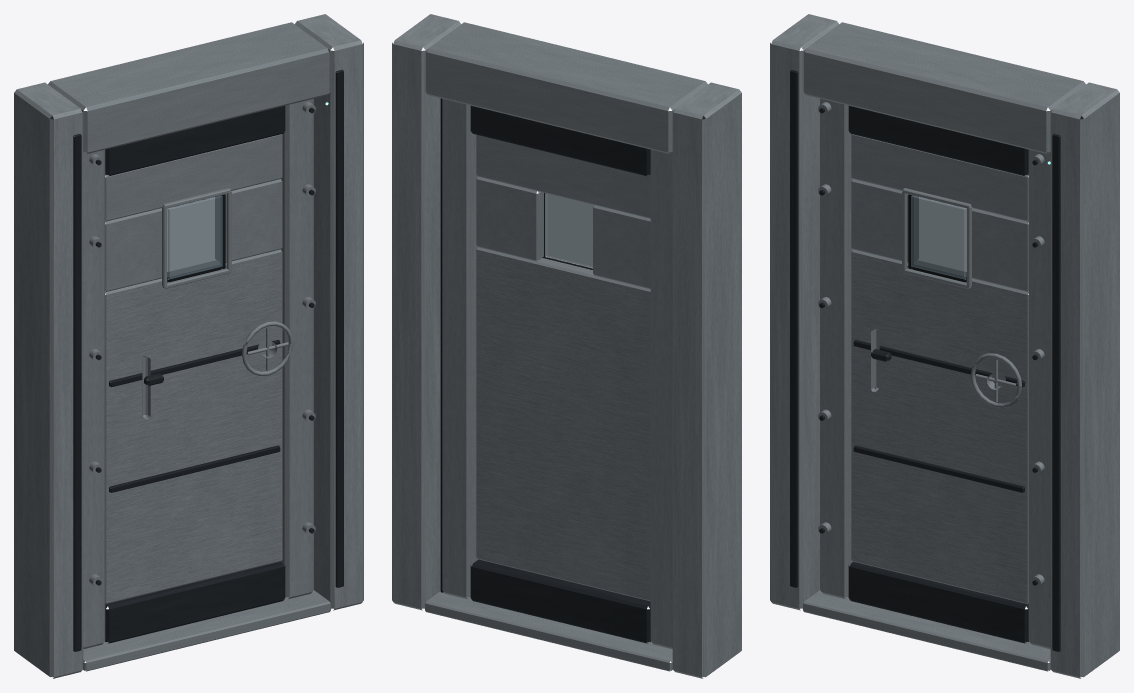
File: cyber_bunker_airlock.gltf
3 renders of one model, left to right at view 1: azimuth 30°, elevation 25°; view 2: azimuth 150°, elevation 25°; view 3: azimuth 330°, elevation 25°, orthographic.
Parts seen in each view (by area): view 1: bunker_door_leaf, bunker_door_load_bearing_frame, bunker_door_handwheel_and_latch, bunker_door_lockdogs; view 2: bunker_door_leaf, bunker_door_load_bearing_frame, bunker_door_compression_seal; view 3: bunker_door_leaf, bunker_door_load_bearing_frame, bunker_door_handwheel_and_latch, bunker_door_lockdogs.
Part boxes in pixels (left/top/right/bottom): bunker_door_leaf: left=83, top=98, right=313, bottom=648; bunker_door_load_bearing_frame: left=14, top=14, right=363, bottom=678; bunker_door_handwheel_and_latch: left=142, top=321, right=293, bottom=419; bunker_door_lockdogs: left=89, top=102, right=315, bottom=587; bunker_door_leaf: left=442, top=99, right=672, bottom=648; bunker_door_load_bearing_frame: left=392, top=14, right=741, bottom=678; bunker_door_compression_seal: left=440, top=98, right=443, bottom=592; bunker_door_leaf: left=820, top=98, right=1050, bottom=648; bunker_door_load_bearing_frame: left=770, top=14, right=1119, bottom=678; bunker_door_handwheel_and_latch: left=871, top=328, right=1022, bottom=407; bunker_door_lockdogs: left=818, top=102, right=1044, bottom=587.
Size of what is drawn, in the model's own units: 1.4 by 2.4 by 0.308.
Materials: 8 (5 with a texture image).
